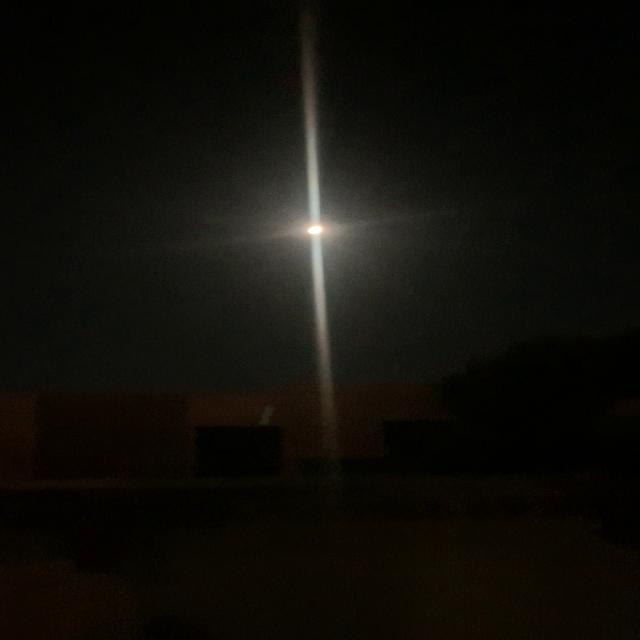moon: (294, 217, 338, 244)
